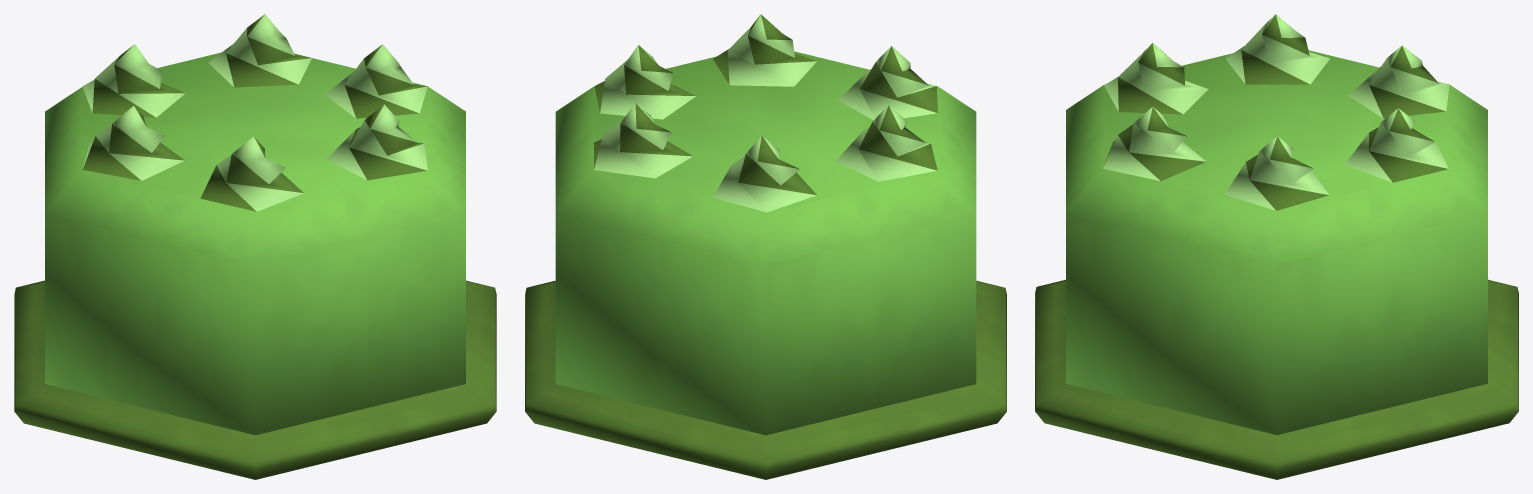
Rendered from Cake_B_10.FBX.
3 views of the same model, side by side, from view 1: azimuth 30°, elevation 25°; view 2: azimuth 150°, elevation 25°; view 3: azimuth 270°, elevation 25° (orthographic).
Parts seen in each view (by area): view 1: Cake_2; view 2: Cake_2; view 3: Cake_2.
Boxes of the visible parts, bbox=[...] form: Cake_2: bbox=[14, 14, 496, 479]; Cake_2: bbox=[525, 14, 1006, 479]; Cake_2: bbox=[1035, 14, 1518, 479].
Size of the model in its own units: 117 by 67.83 by 101.
